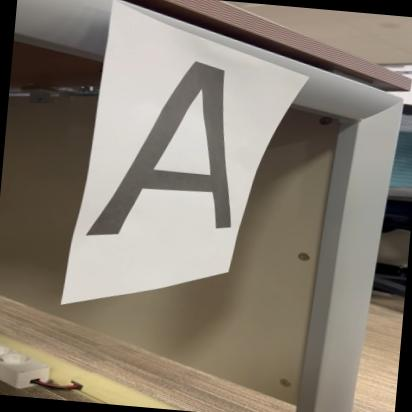seat: (57, 38, 274, 256)
